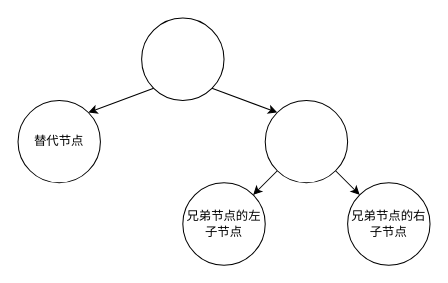
Some shapes in this 448 by 283 pixel diagram are drawn without their labels. The shapes that lost their labels are listed below. From the top down, each one's centre as x and y in pixels, then its label:
pixel 182 58: 替代节点的父节点
pixel 306 141: 替代节点的兄弟节点
